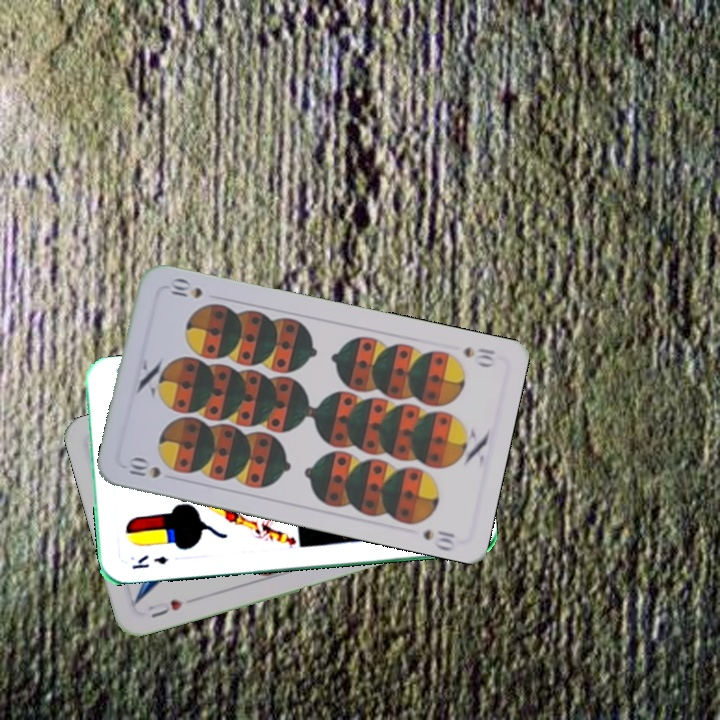EK: (128, 551, 170, 572)
HU: (144, 595, 185, 621)
S10: (124, 454, 163, 481), (460, 343, 498, 370)
